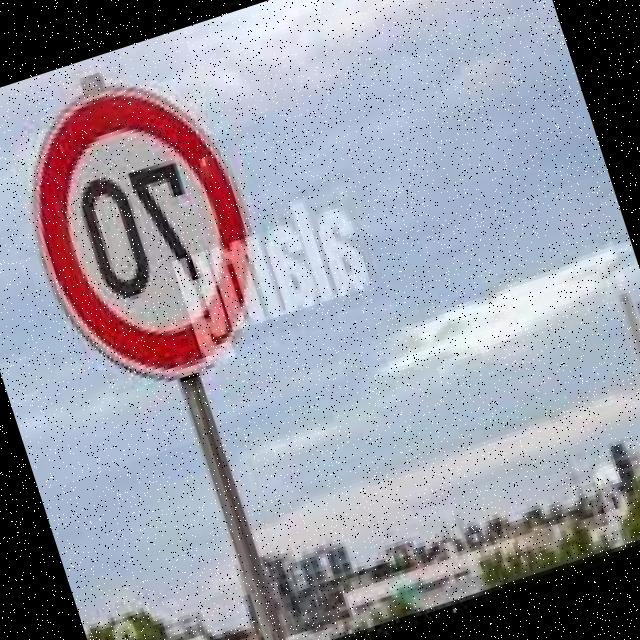speed_limit_70: (0, 54, 297, 411)
